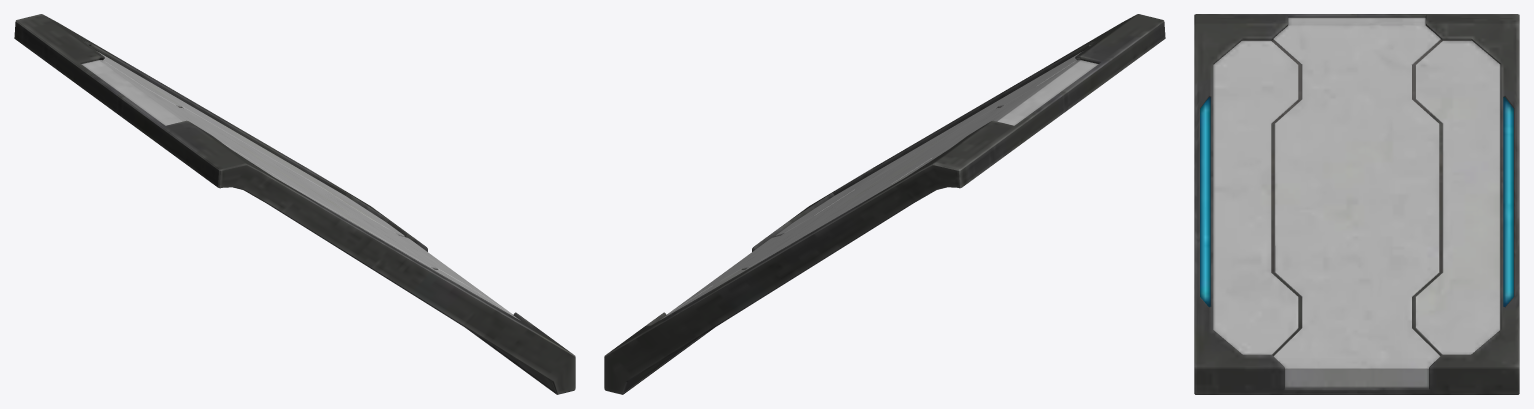
Rendered from SM_RoofB_Ancient_670851.glb.
3 views of the same model, side by side, from view 1: azimuth 30°, elevation 25°; view 2: azimuth 150°, elevation 25°; view 3: azimuth 270°, elevation 25° (orthographic). The views are drawn at different scales.
Bounding box in the file's own units: 4.02 × 3.31 × 4.
1 material, 1 textured.
